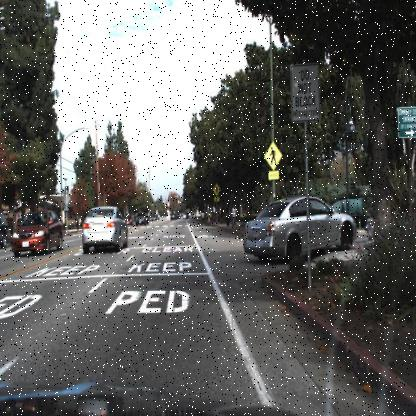car: (241, 190, 361, 265), (10, 209, 64, 258), (80, 203, 128, 253), (134, 209, 149, 228)
